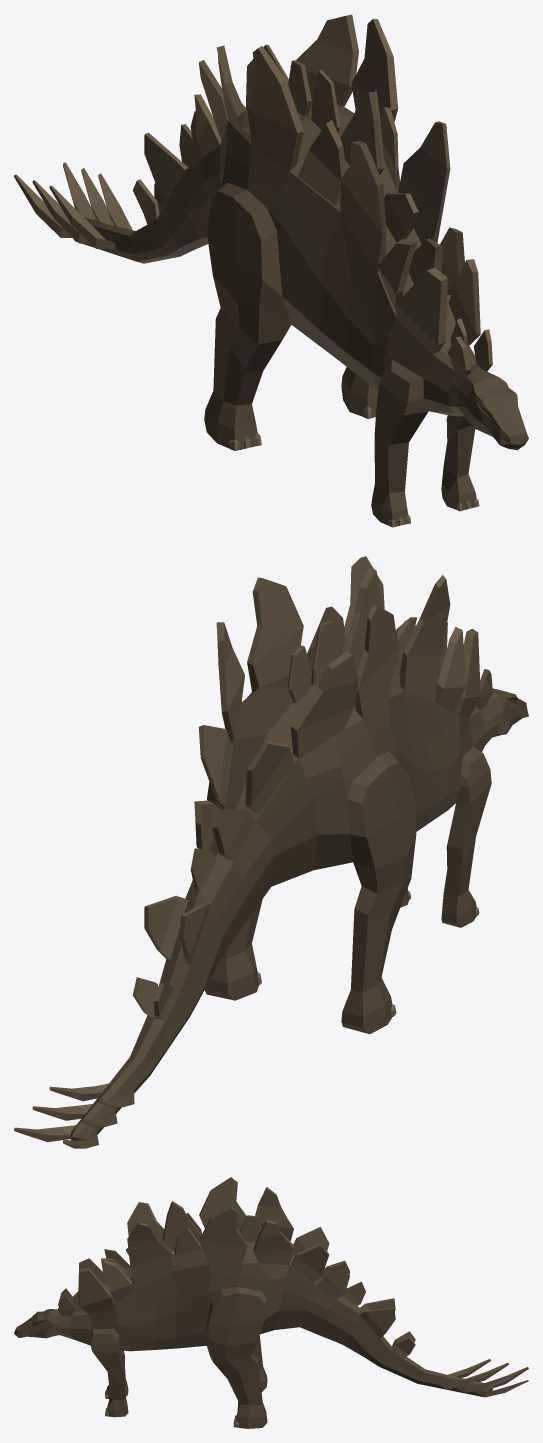
The model's file is Stegosaurus.glb.
3 views of the same model, one above another, from view 1: azimuth 30°, elevation 25°; view 2: azimuth 150°, elevation 25°; view 3: azimuth 270°, elevation 25° (orthographic). The views are drawn at different scales.
Visible parts, largest first — view 1: Stegosaurus; view 2: Stegosaurus; view 3: Stegosaurus.
Part boxes in pixels (box(x1,y1,x2,y2)): Stegosaurus: box(14, 14, 528, 527); Stegosaurus: box(14, 556, 528, 1148); Stegosaurus: box(14, 1177, 528, 1428).
Size of the model in its own units: 4.71 by 10.62 by 23.05.
